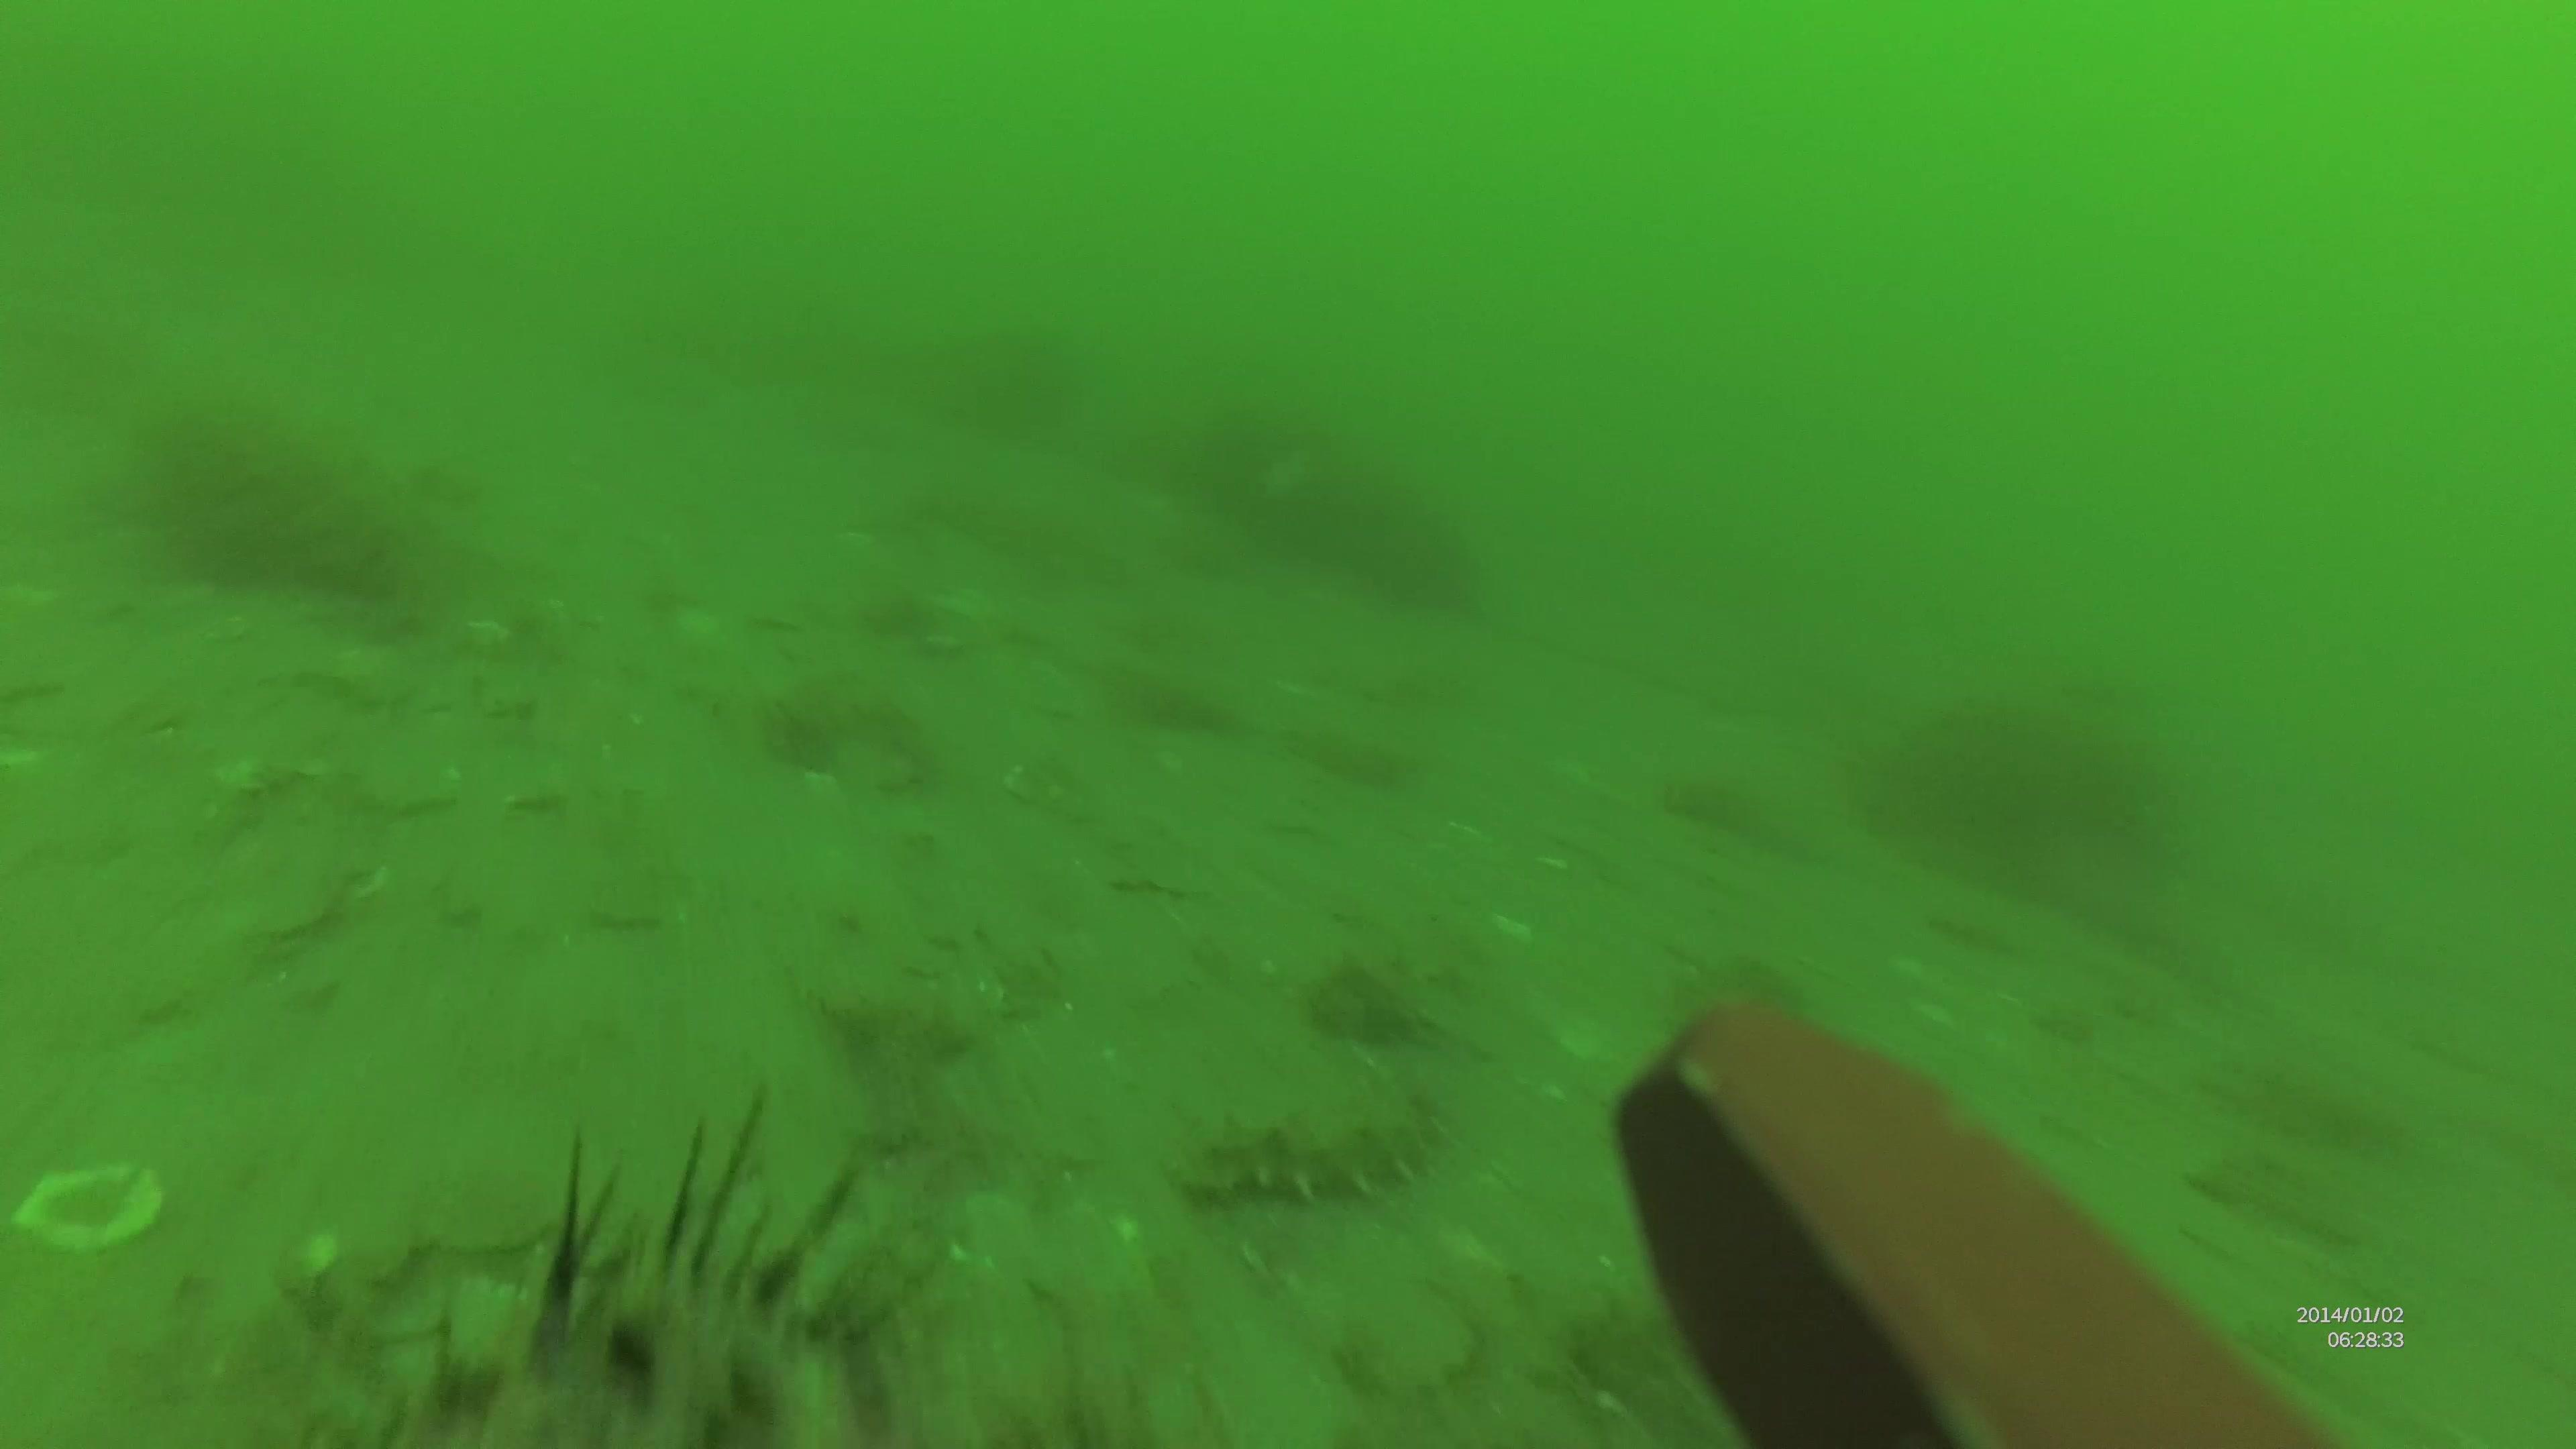echinus: (340, 1065, 978, 1449)
holothurian: (1168, 1102, 1467, 1203)
